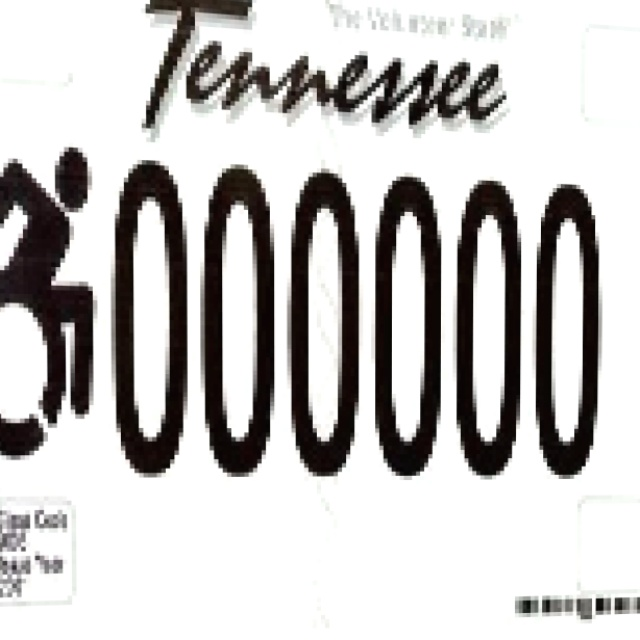ISA: (0, 127, 101, 466)
